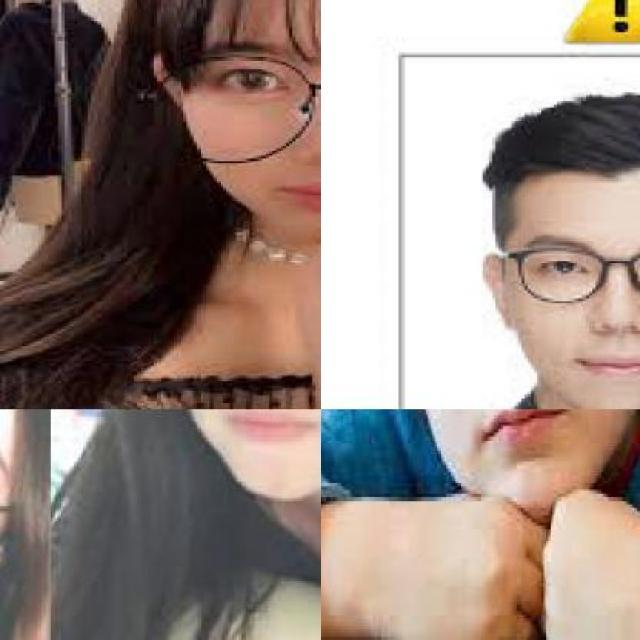mask: (122, 40, 318, 163), (492, 234, 638, 318)
